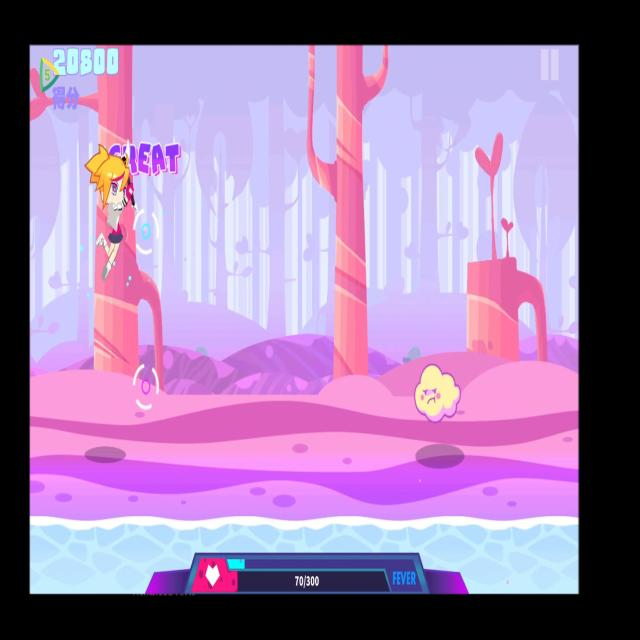Ground Monster - yellow Cloud: (413, 354, 463, 432)
